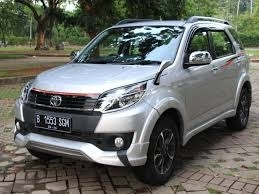plate: (35, 113, 69, 132)
